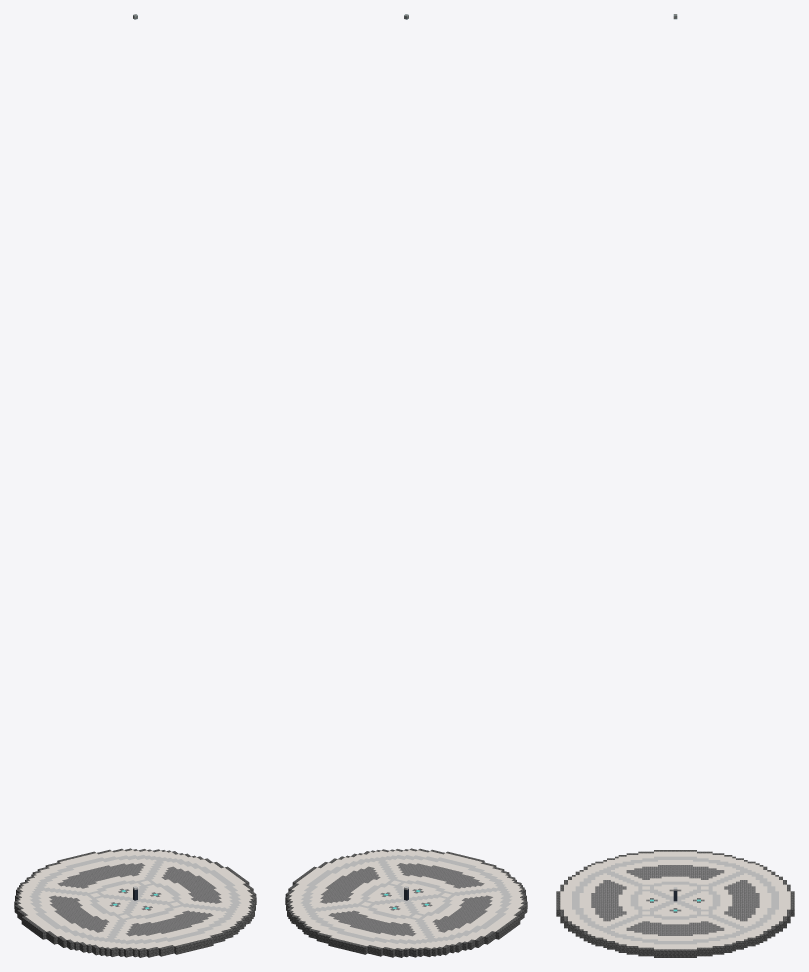
File: minecraft.obj
The picture shows the model from 3 angles, left to right: view 1: azimuth 30°, elevation 25°; view 2: azimuth 150°, elevation 25°; view 3: azimuth 270°, elevation 25°; orthographic projection.
Bounding box in the file's own units: 61 × 252 × 61.
